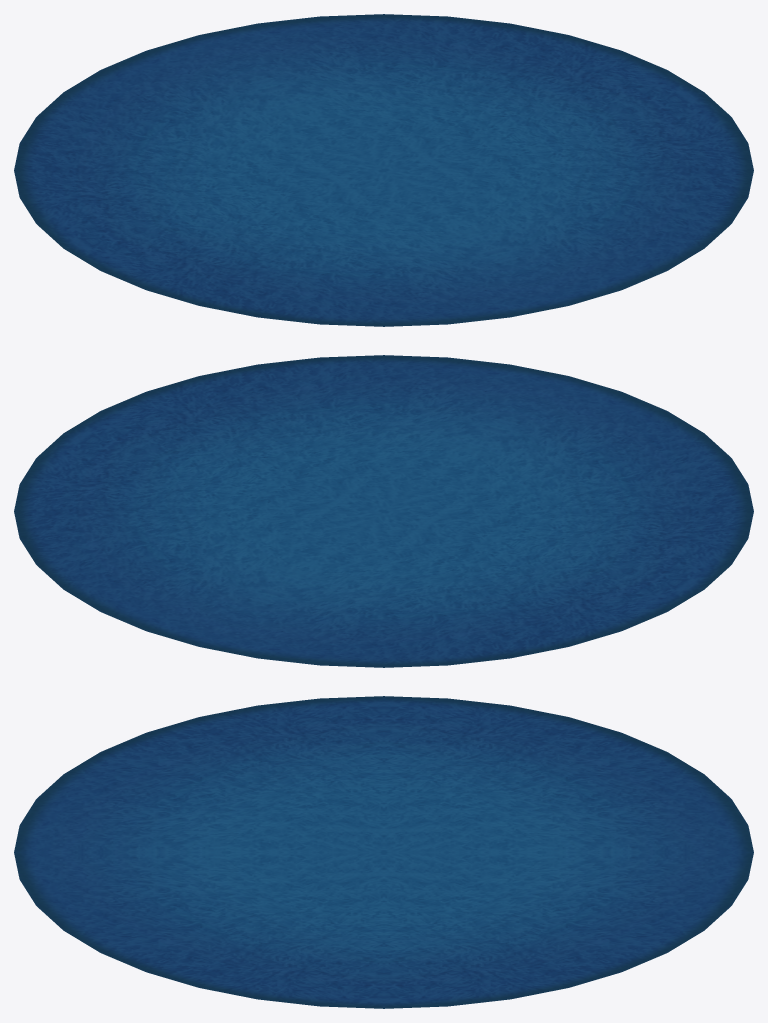
Rendered from jia_ditan.FBX.
3 renders of one model, top to bottom at view 1: azimuth 30°, elevation 25°; view 2: azimuth 150°, elevation 25°; view 3: azimuth 270°, elevation 25°, orthographic.
Parts seen in each view (by area): view 1: jia_ditan; view 2: jia_ditan; view 3: jia_ditan.
Part boxes in pixels (bbox=[...]): jia_ditan: bbox=[14, 14, 753, 326]; jia_ditan: bbox=[14, 355, 753, 667]; jia_ditan: bbox=[14, 696, 753, 1008].
Size of the model in its own units: 440 by 2.71e-14 by 440.
